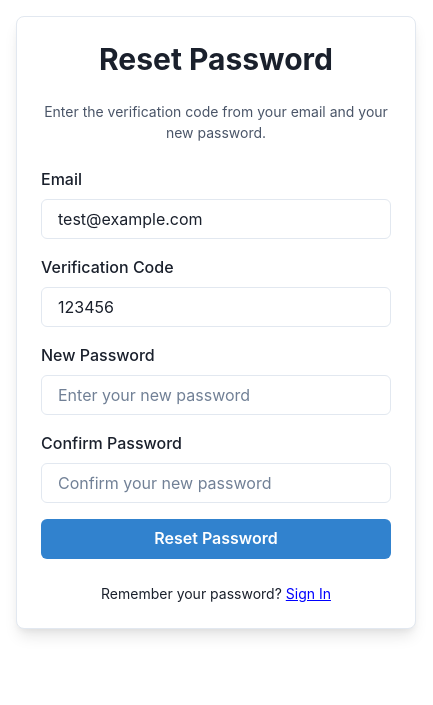
Test: ResetPassword Component › validates password minimum length
Step 1. Type "123" into the password field labelled "New Password" → (216, 395), box [41,375,391,415]
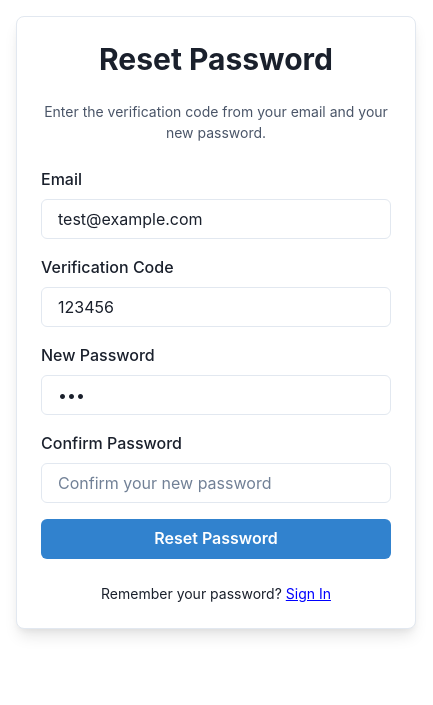
Step 2. Click the button "Reset Password" → click(216, 539), box [41,519,391,559]
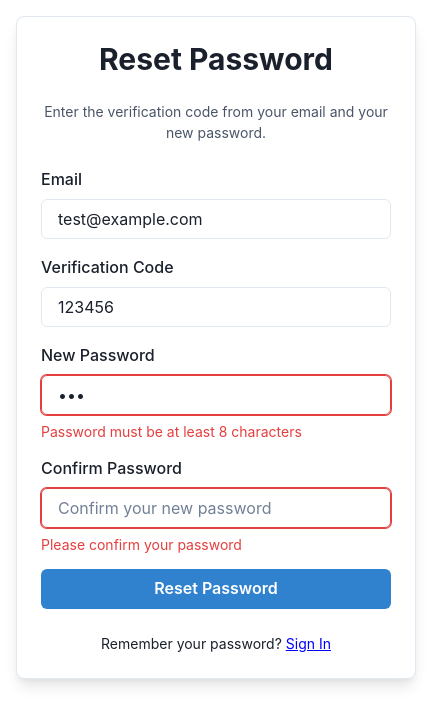
Check: the text "Password must be at least 8 characters" is shown, box [41,423,302,440]
